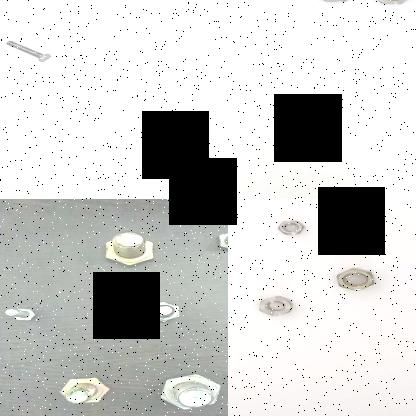Bolts: (147, 370, 228, 414), (99, 226, 163, 271), (53, 376, 119, 406), (138, 298, 190, 326), (0, 38, 52, 64), (0, 303, 42, 327), (213, 227, 228, 255)
NUTS: (332, 268, 379, 294), (255, 293, 297, 318), (275, 219, 307, 237), (368, 0, 416, 6)
